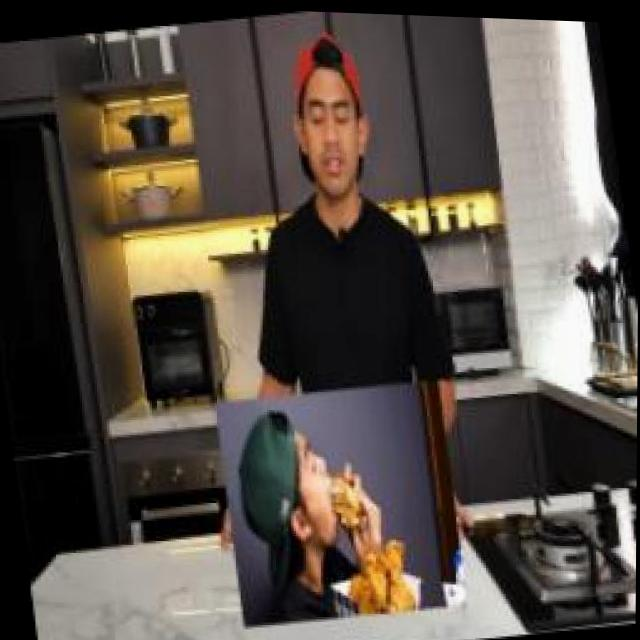burger: (322, 457, 372, 532)
fried chicken: (343, 520, 422, 620)
